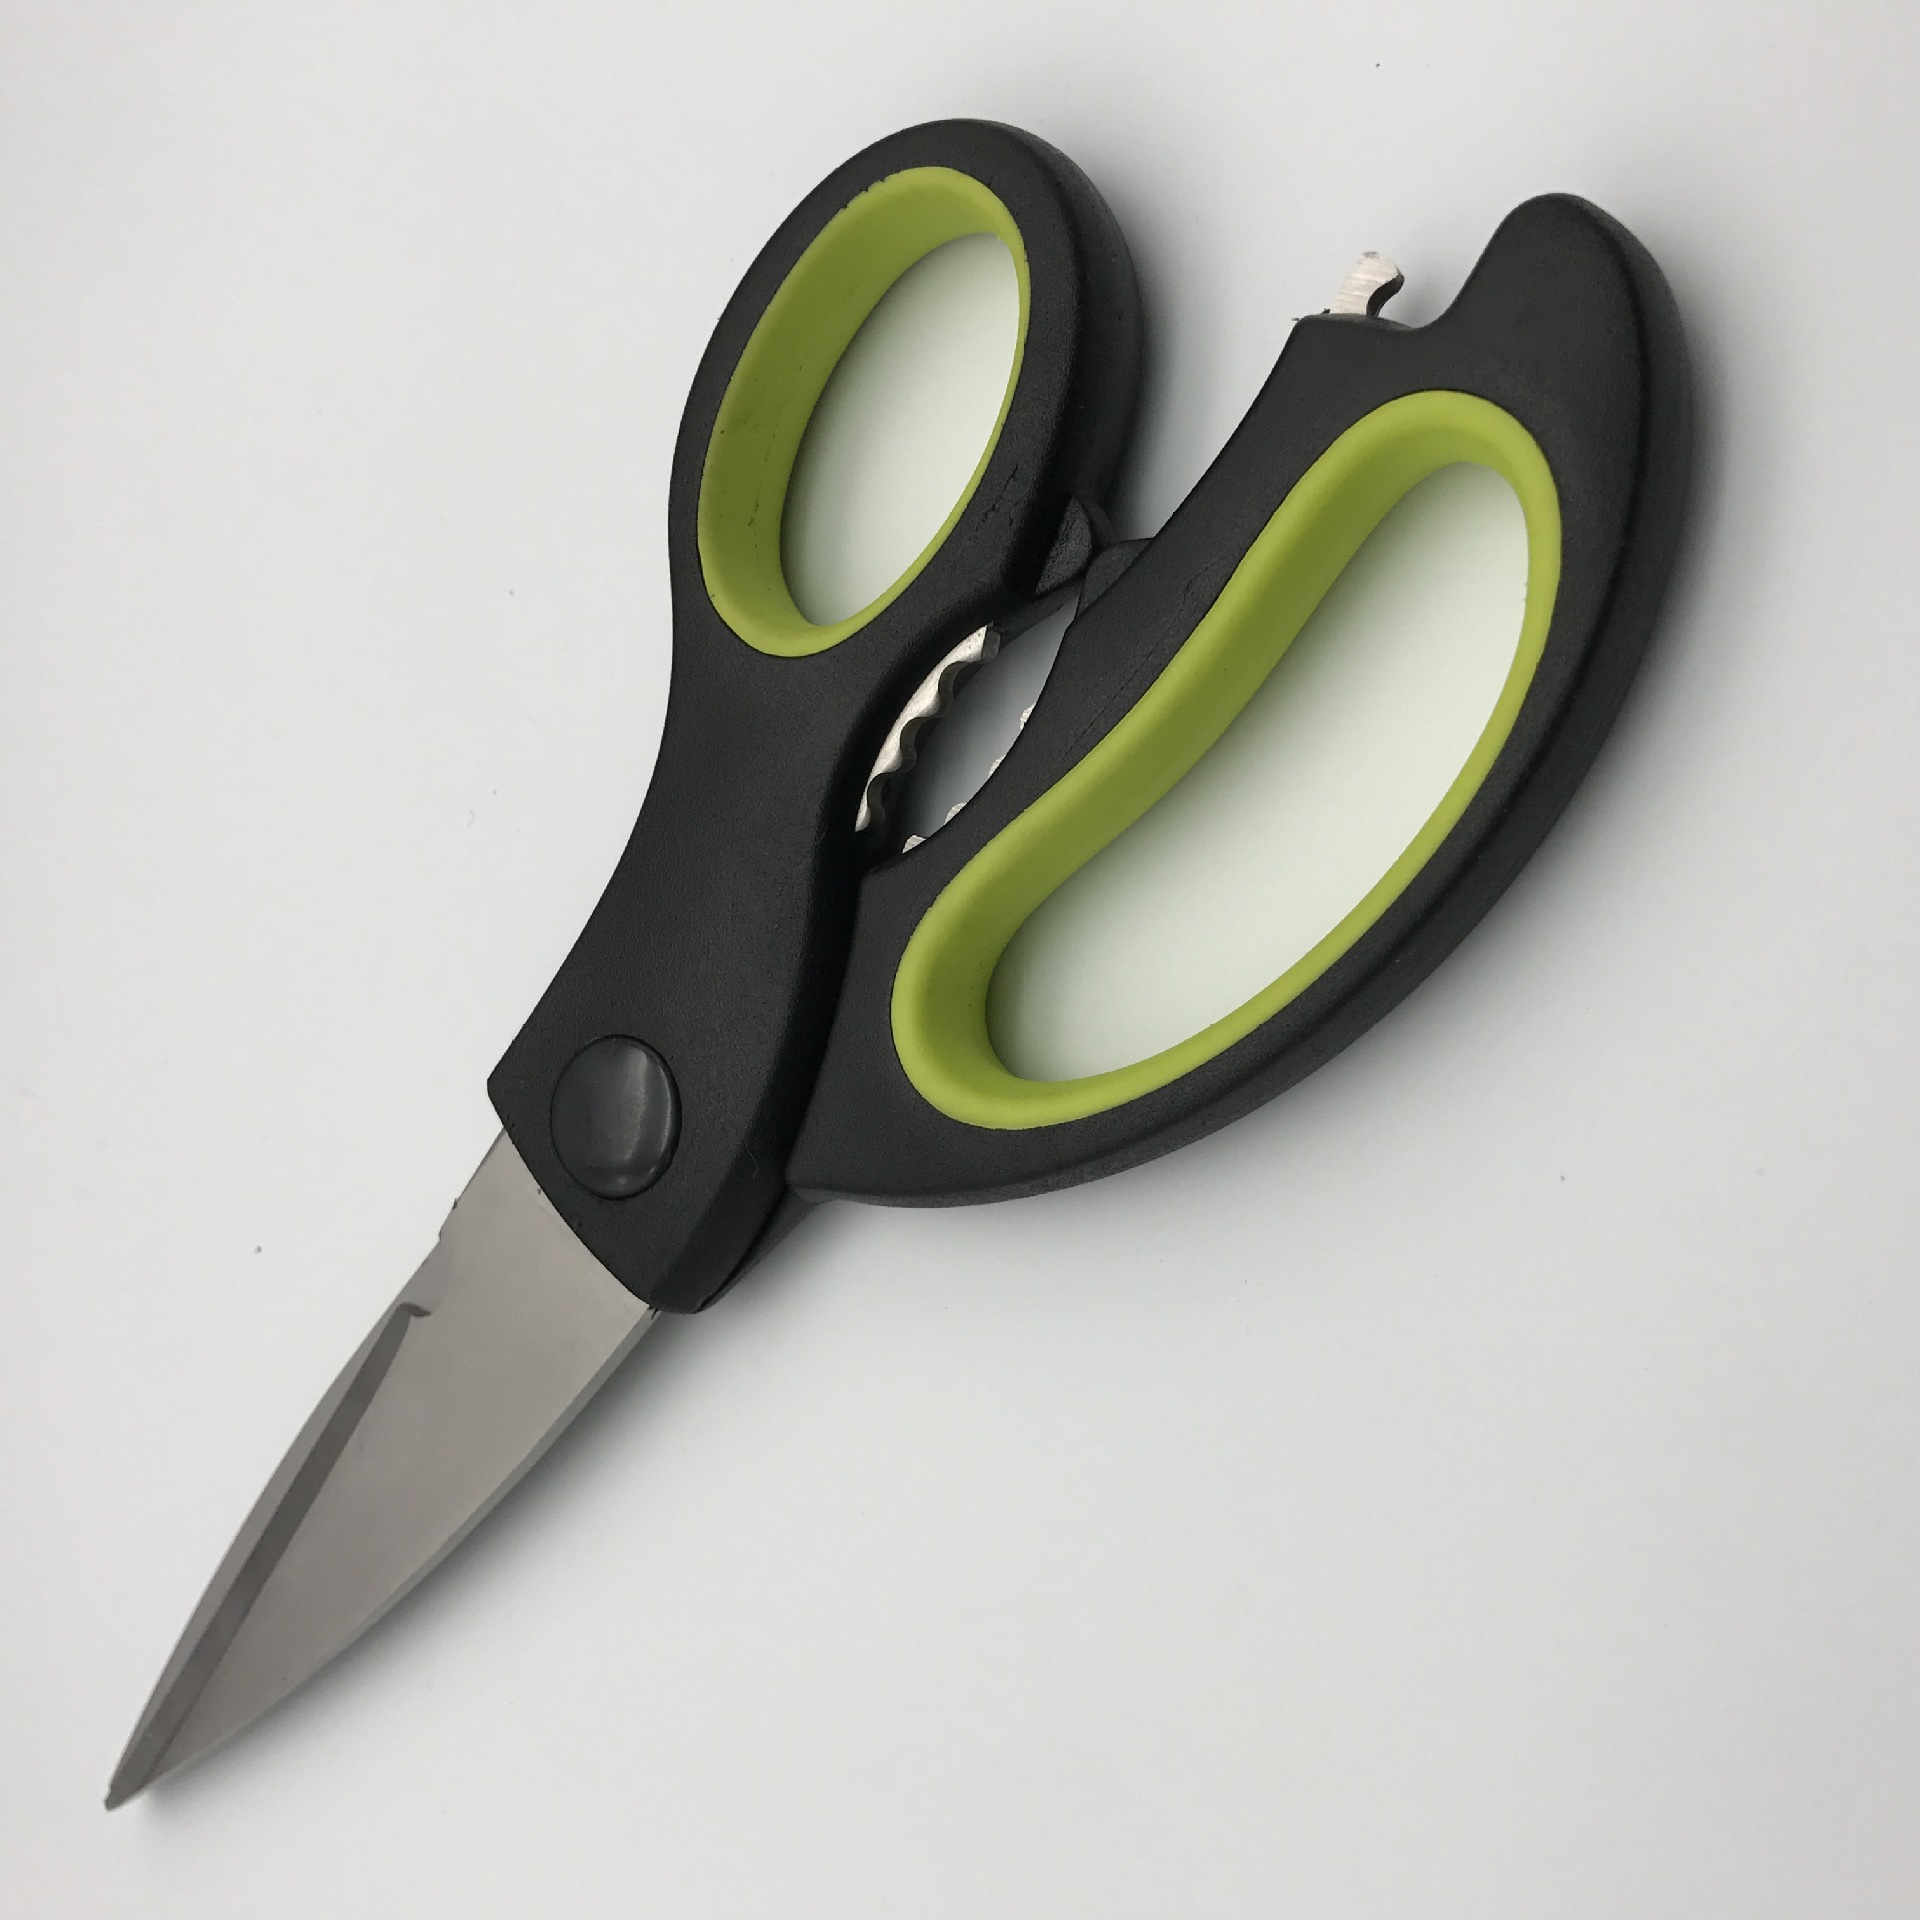scissors: (70, 114, 1741, 1848)
